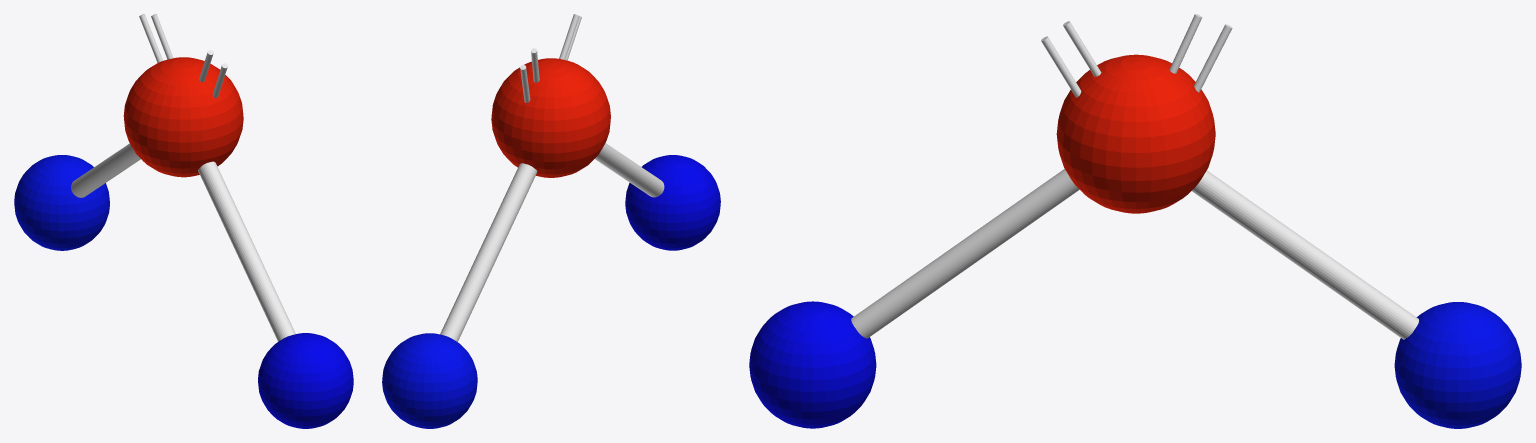
3 renders of one model, left to right at view 1: azimuth 30°, elevation 25°; view 2: azimuth 150°, elevation 25°; view 3: azimuth 270°, elevation 25°, orthographic. The views are drawn at different scales.
Parts seen in each view (by area): view 1: Sphere, Sphere.001, Sphere.002, Cylinder, Cylinder.001, Cylinder.003; view 2: Sphere, Sphere.002, Sphere.001, Cylinder.001, Cylinder, Cylinder.004; view 3: Sphere, Sphere.001, Sphere.002, Cylinder, Cylinder.001.
Part boxes in pixels (box(x1,y1,x2,y2)): Sphere: box(123, 57, 243, 177); Sphere.001: box(258, 333, 353, 428); Sphere.002: box(14, 155, 109, 250); Cylinder: box(198, 161, 295, 341); Cylinder.001: box(71, 143, 140, 197); Cylinder.003: box(139, 14, 162, 62); Sphere: box(491, 58, 610, 177); Sphere.002: box(382, 333, 477, 428); Sphere.001: box(625, 155, 720, 250); Cylinder.001: box(440, 163, 537, 341); Cylinder: box(595, 143, 664, 197); Cylinder.004: box(559, 14, 579, 59); Sphere: box(1056, 54, 1215, 213); Sphere.001: box(749, 301, 876, 428); Sphere.002: box(1394, 302, 1521, 428); Cylinder: box(851, 169, 1079, 338); Cylinder.001: box(1192, 170, 1418, 339).
Size of the model in its own units: 2 by 5.61 by 9.71.
